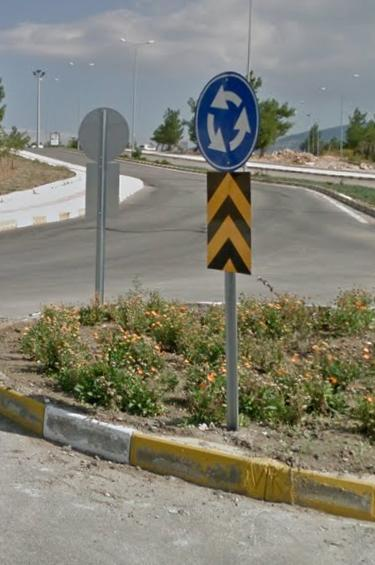crossroads: (198, 76, 259, 166)
